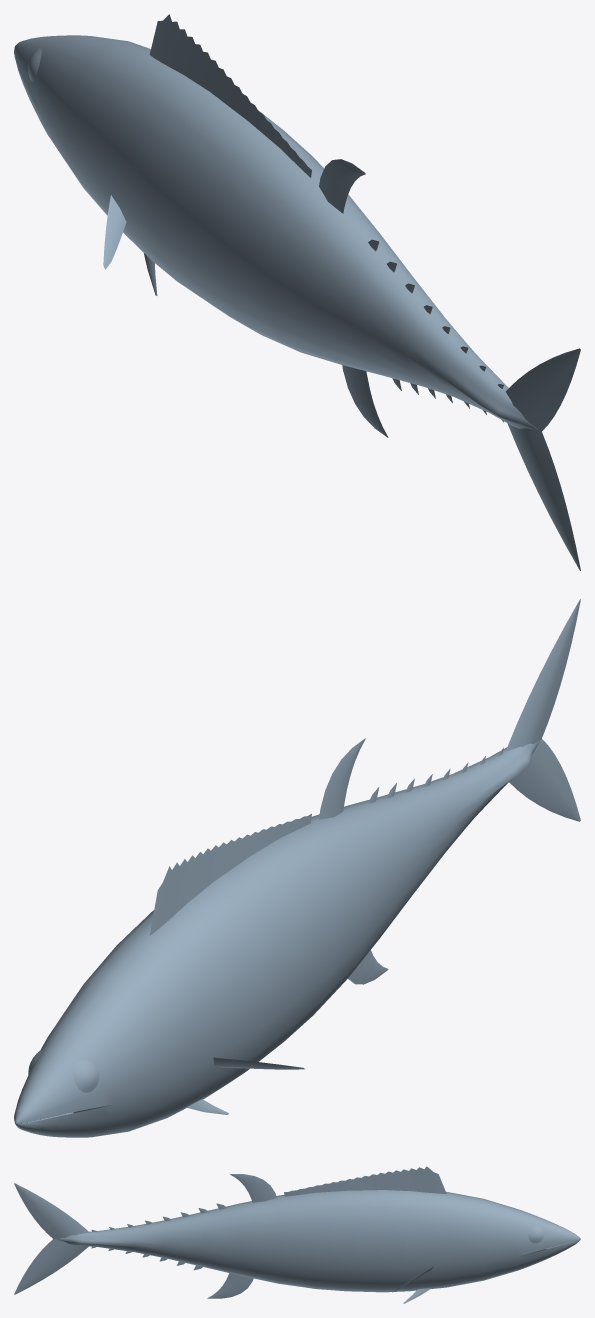
Rendered from pacific_bonito_game.glb.
The picture shows the model from 3 angles, top to bottom: view 1: azimuth 30°, elevation 25°; view 2: azimuth 150°, elevation 25°; view 3: azimuth 270°, elevation 25°; orthographic projection. The views are drawn at different scales.
Visible parts, largest first — view 1: pacific_bonito_game; view 2: pacific_bonito_game; view 3: pacific_bonito_game.
Boxes of the visible parts, <box> form: pacific_bonito_game: <box>14,14,580,570</box>; pacific_bonito_game: <box>14,599,580,1137</box>; pacific_bonito_game: <box>14,1166,580,1303</box>.
Size of the model in its own units: 0.1532 by 0.1933 by 0.7494.
